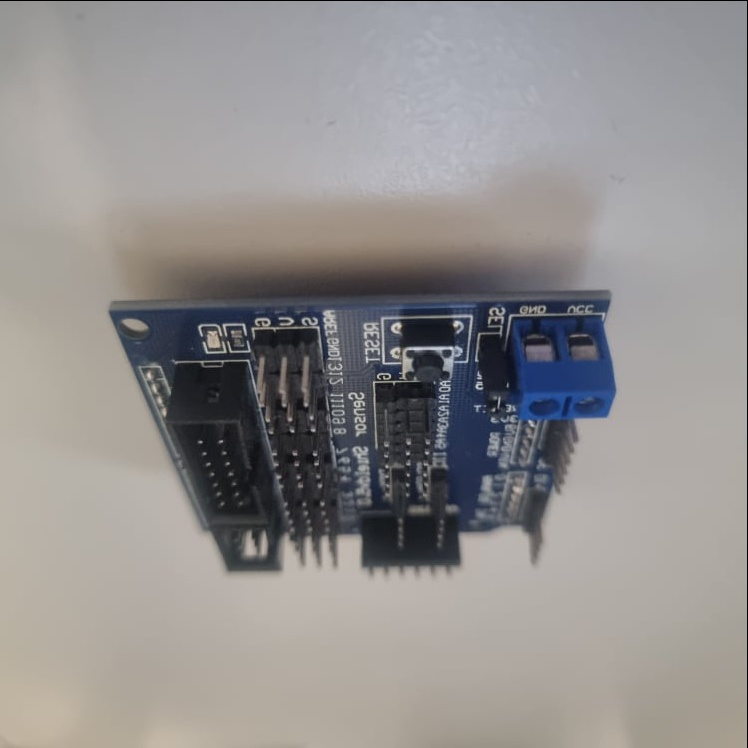5V EXPANSION: (108, 291, 623, 592)
